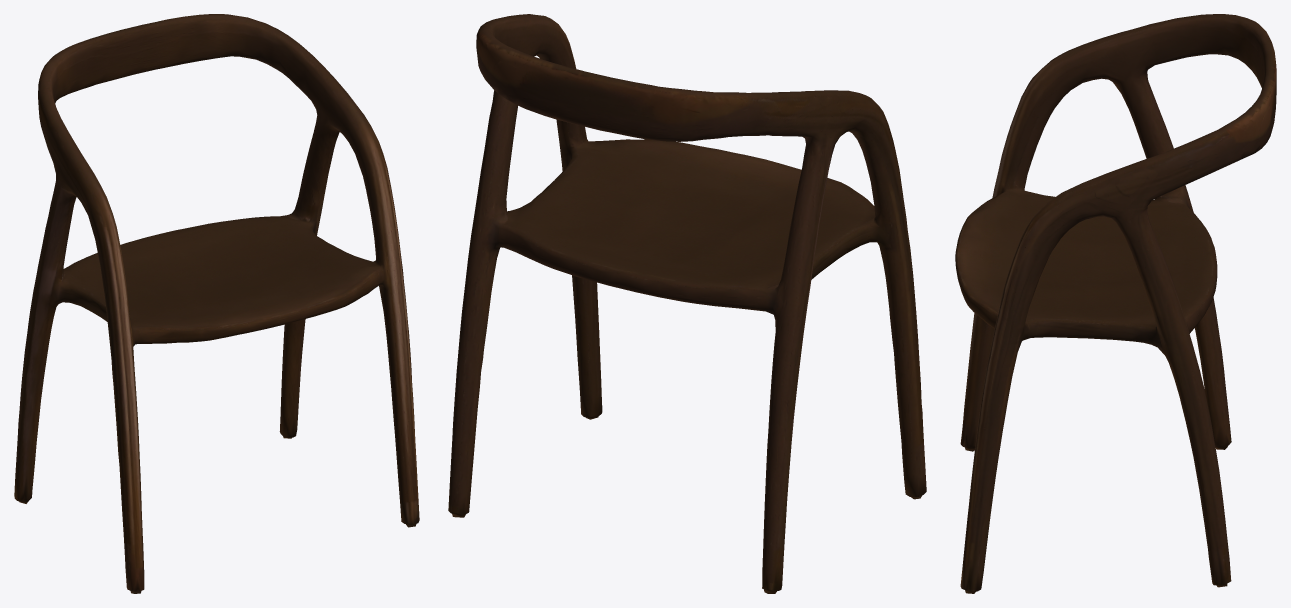
3 renders of one model, left to right at view 1: azimuth 30°, elevation 25°; view 2: azimuth 150°, elevation 25°; view 3: azimuth 270°, elevation 25°, orthographic. The views are drawn at different scales.
Visible parts, largest first — view 1: Mesh_0; view 2: Mesh_0; view 3: Mesh_0.
Part boxes in pixels (x1,y1,x2,y2): Mesh_0: (14,14,419,593); Mesh_0: (448,14,926,593); Mesh_0: (955,14,1276,593).
Bounding box in the file's own units: 1.36 × 1.91 × 1.22.
Materials: 1 (1 with a texture image).
